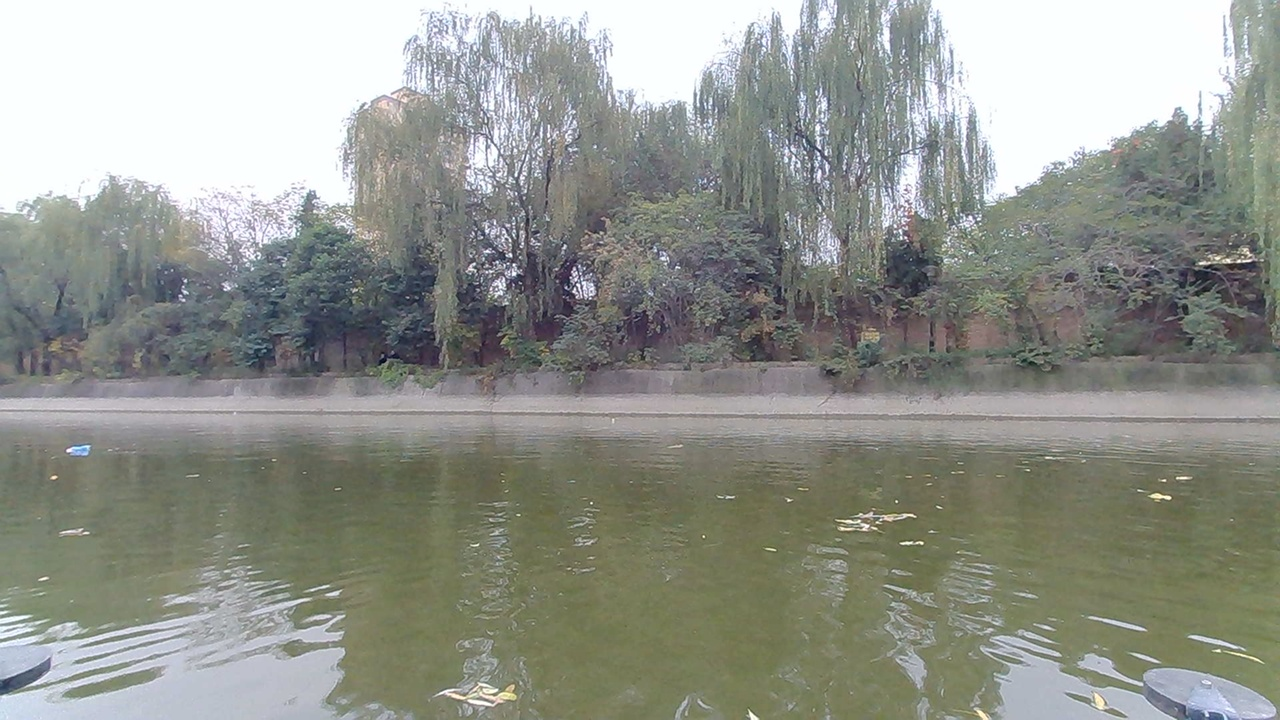bottle: (65, 438, 98, 462)
